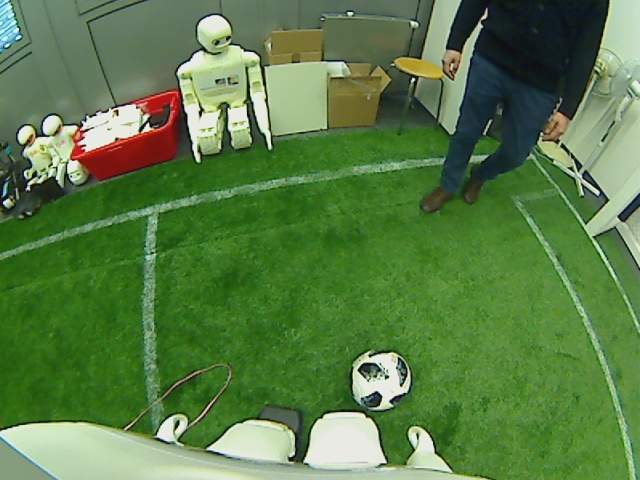ball: (347, 349, 414, 412)
